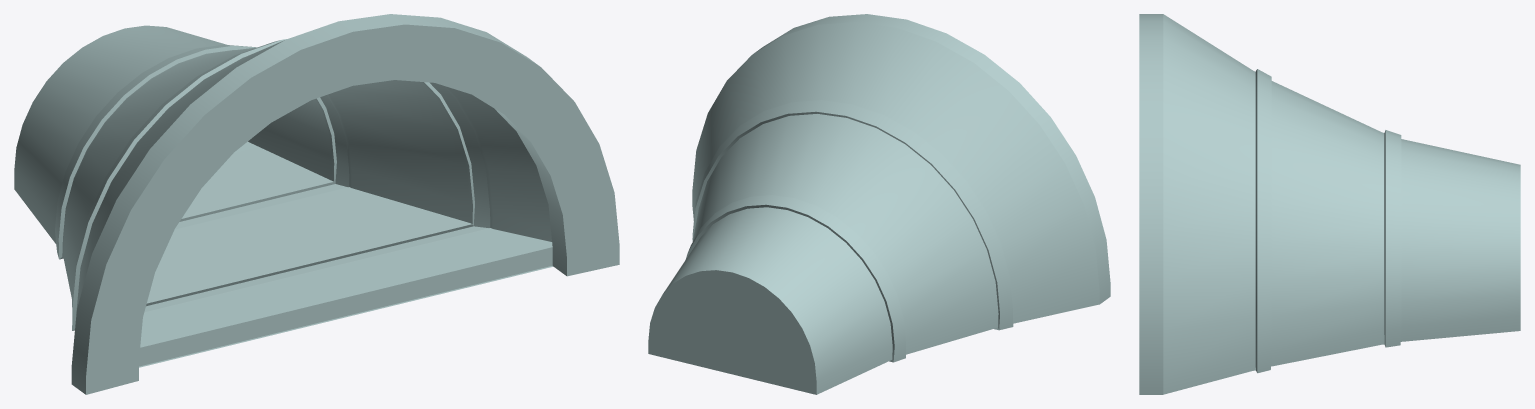
File: BUS STAND.fbx
3 renders of one model, left to right at view 1: azimuth 30°, elevation 25°; view 2: azimuth 150°, elevation 25°; view 3: azimuth 270°, elevation 25°, orthographic. The views are drawn at different scales.
Parts seen in each view (by area): view 1: Cylinder; view 2: Cylinder; view 3: Cylinder.
Boxes of the visible parts, bbox=[...] form: Cylinder: bbox=[14, 14, 619, 394]; Cylinder: bbox=[648, 14, 1110, 394]; Cylinder: bbox=[1139, 14, 1520, 394].
Size of the model in its own units: 279 by 150 by 207.
